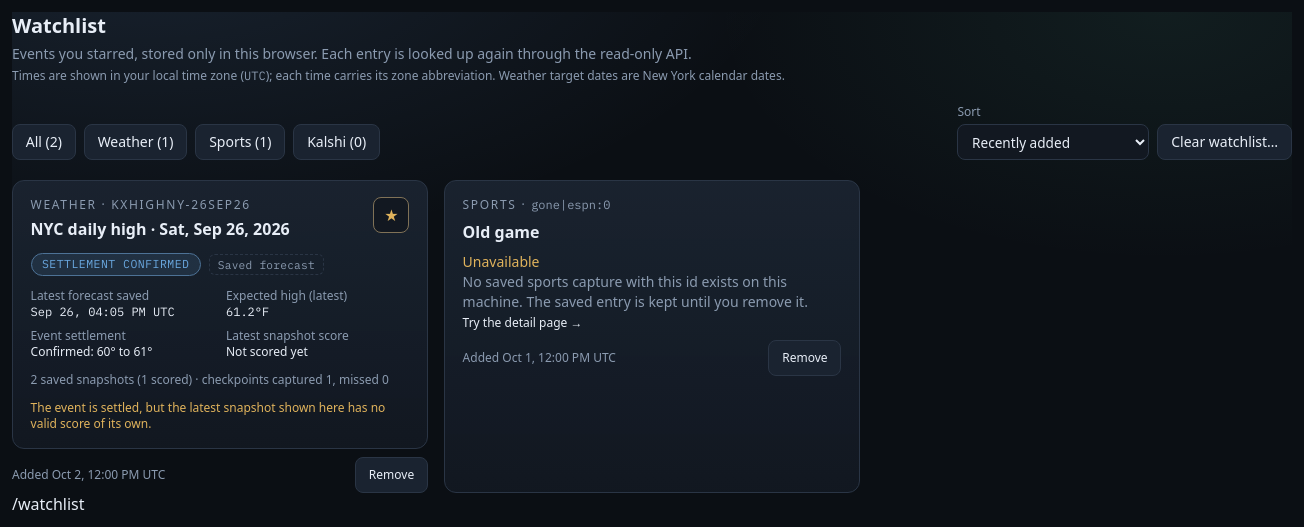
Test case: Watchlist page › removes a single entry and persists the change
What coordinates should you click on to do the following:
click the button with aria-label "Remove Old game from watchlist"
I would click on:
 (805, 358)
Its box is [768,340,841,376].
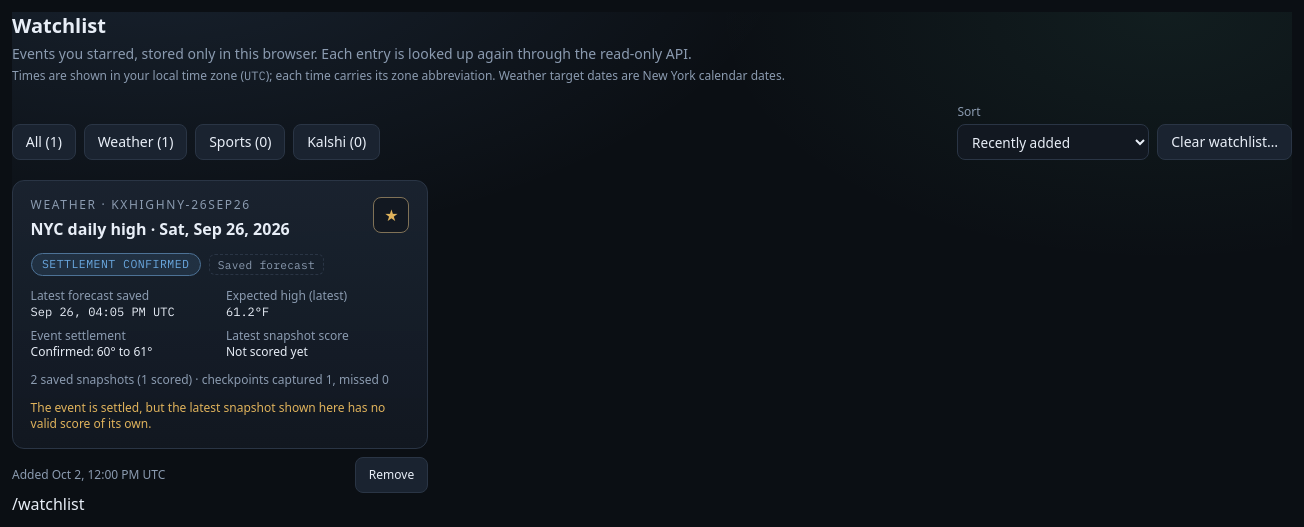
Expected: the heading "Old game" is gone
